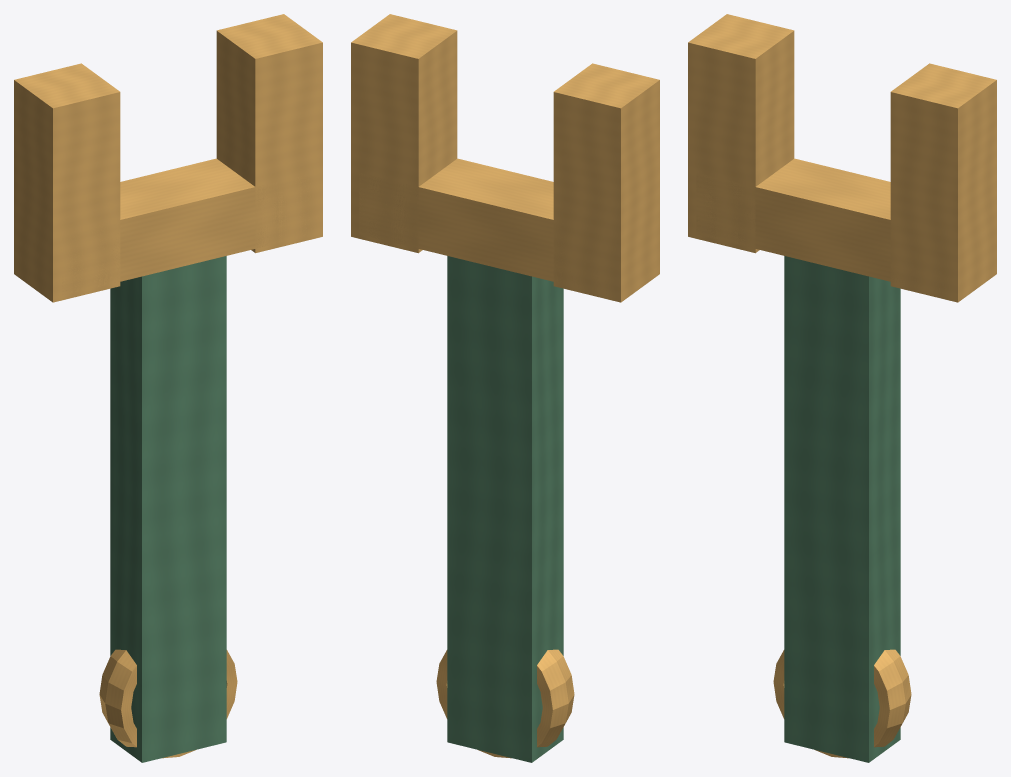
Rendered from atlas100-s002-a05.glb.
3 renders of one model, left to right at view 1: azimuth 30°, elevation 25°; view 2: azimuth 150°, elevation 25°; view 3: azimuth 330°, elevation 25°, orthographic.
Parts seen in each view (by area): view 1: atlas100-s002-a05:part-000, atlas100-s002-a05:part-001, atlas100-s002-a05:part-002, atlas100-s002-a05:part-003, atlas100-s002-a05:part-004; view 2: atlas100-s002-a05:part-000, atlas100-s002-a05:part-001, atlas100-s002-a05:part-002, atlas100-s002-a05:part-003, atlas100-s002-a05:part-004; view 3: atlas100-s002-a05:part-000, atlas100-s002-a05:part-002, atlas100-s002-a05:part-001, atlas100-s002-a05:part-003, atlas100-s002-a05:part-004.
Boxes of the visible parts, x1,y1,x2,y2 form: atlas100-s002-a05:part-000: (110,256,226,762); atlas100-s002-a05:part-001: (14,63,120,302); atlas100-s002-a05:part-002: (216,14,322,253); atlas100-s002-a05:part-003: (61,158,313,295); atlas100-s002-a05:part-004: (99,649,237,758); atlas100-s002-a05:part-000: (447,256,563,762); atlas100-s002-a05:part-001: (553,63,659,302); atlas100-s002-a05:part-002: (351,14,457,253); atlas100-s002-a05:part-003: (359,158,612,294); atlas100-s002-a05:part-004: (436,649,574,758); atlas100-s002-a05:part-000: (784,256,900,762); atlas100-s002-a05:part-002: (890,63,996,302); atlas100-s002-a05:part-001: (688,14,794,253); atlas100-s002-a05:part-003: (696,158,948,293); atlas100-s002-a05:part-004: (773,649,911,758).
Bounding box in the file's own units: 0.3494 × 0.8572 × 0.0874.
2 materials, 2 textured.
